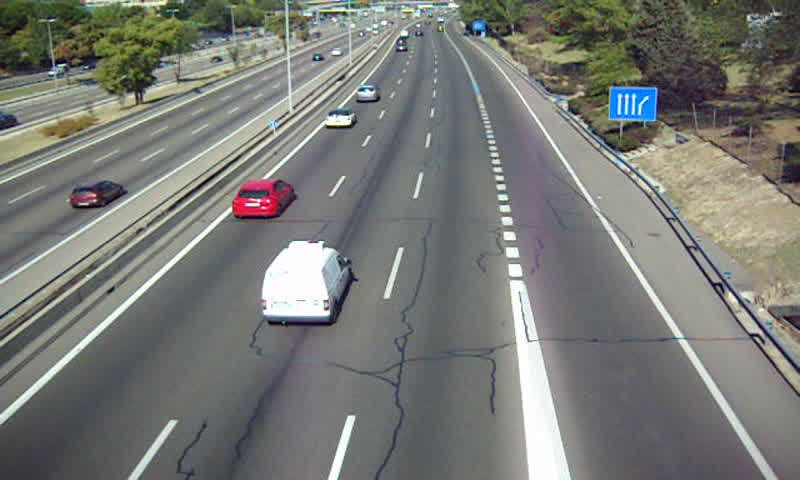car: (231, 180, 293, 219), (325, 108, 358, 129), (354, 84, 379, 104)
van: (261, 241, 351, 324)
